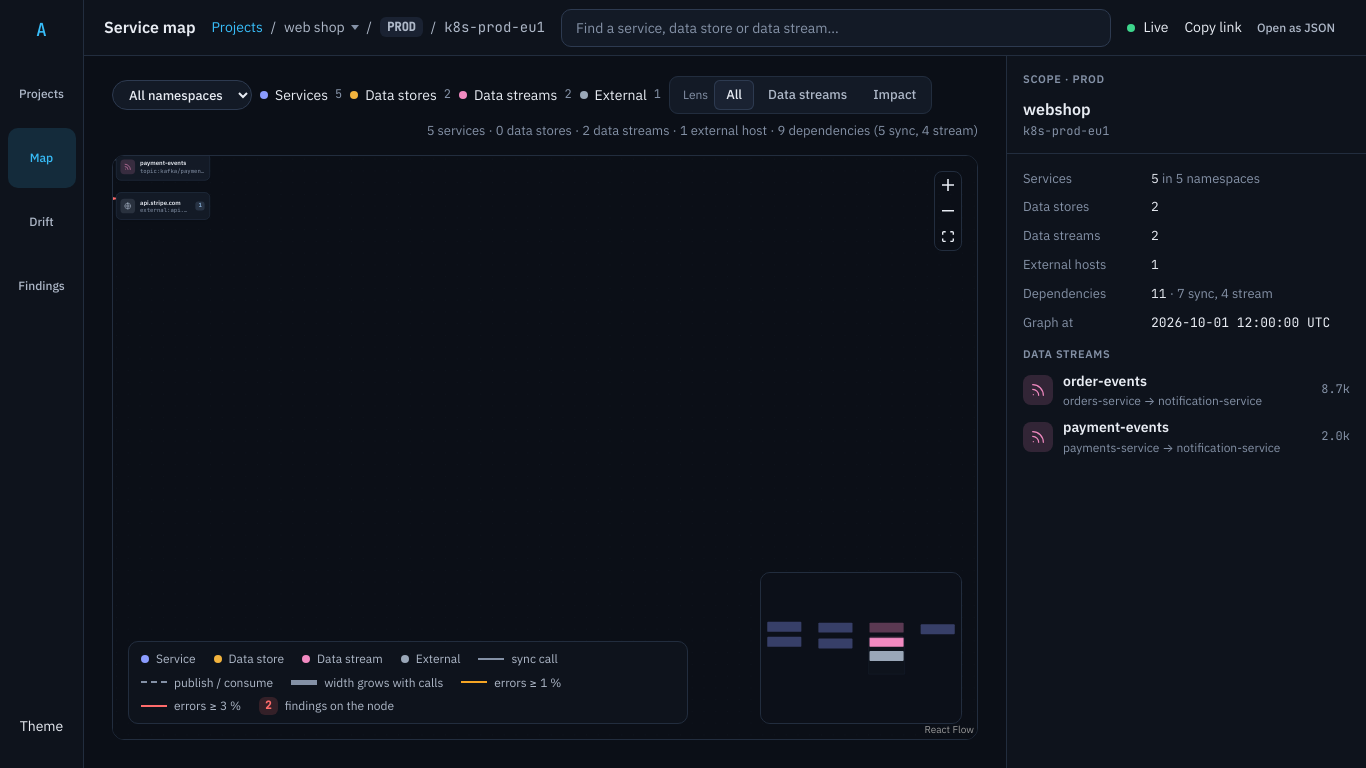
Test: ScopePage › hides node types from the URL and toggles them with the chips
expect the text "postgresql/orders" is not shown: met
expect the text "5 services · 0 data stores · 2 data streams · 1 external host · 9 dependencies (5 sync, 4 stream)" is shown: met, box [427, 122, 978, 139]
Click the button "Data stores 2": coordinates (401, 95) [350, 80, 451, 110]
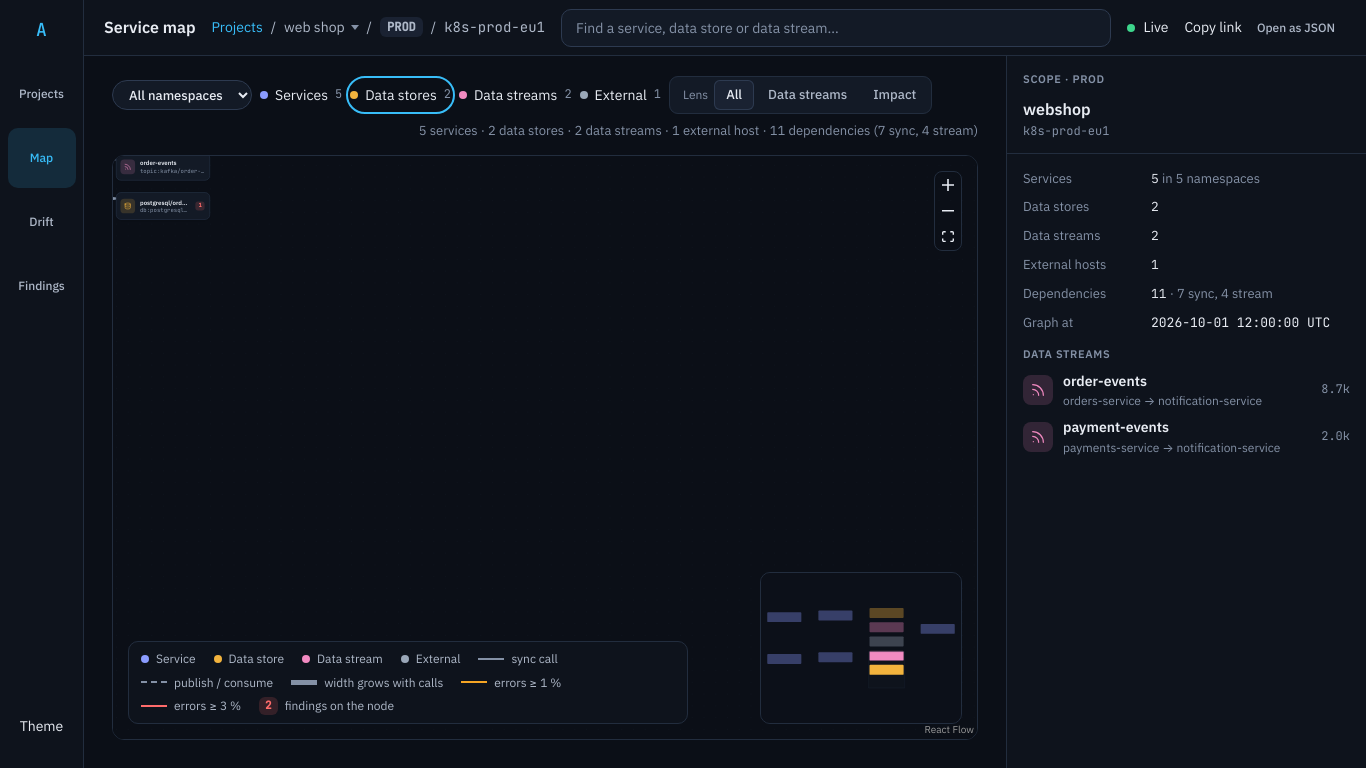
expect the text "postgresql/orders" is shown: met, box [140, 198, 191, 206]
Click the button "Services 5": coordinates (301, 95) [260, 80, 342, 110]
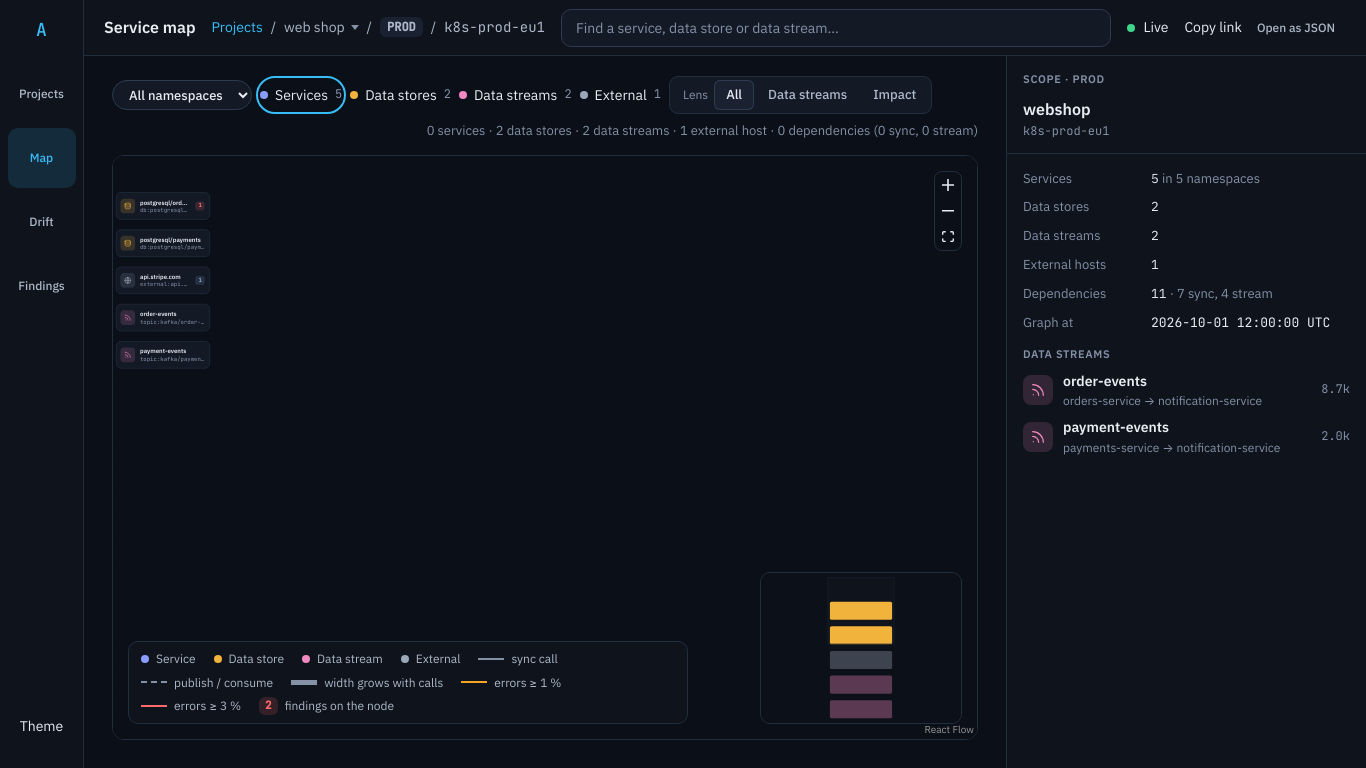
expect the text "0 services · 2 data stores · 2 data streams · 1 external host · 0 dependencies (0 sync, 0 stream)" is shown: met, box [427, 122, 978, 139]
